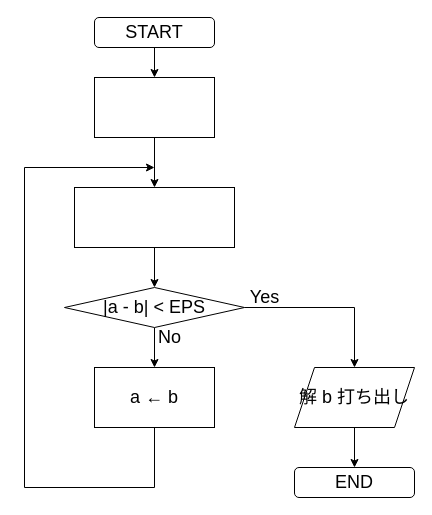
Image size: 432x515. Some labels were removed from this diagram. Each missing label, with the centre of its shape:
b ← a - f(a) / f'(a): [154,217]
初期値設定: [154,107]
